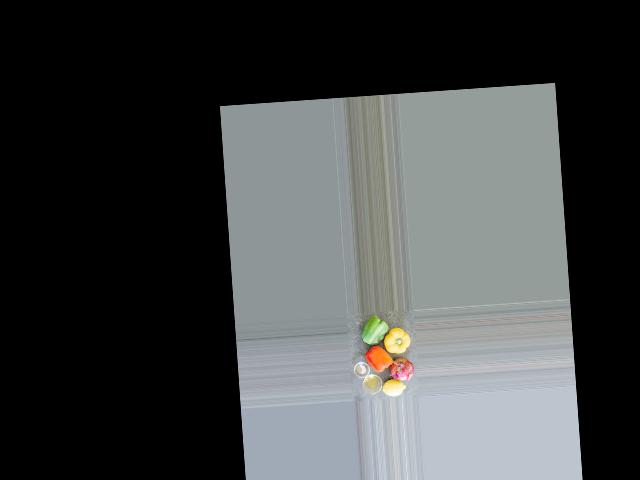bell_pepper: (363, 345, 394, 373)
